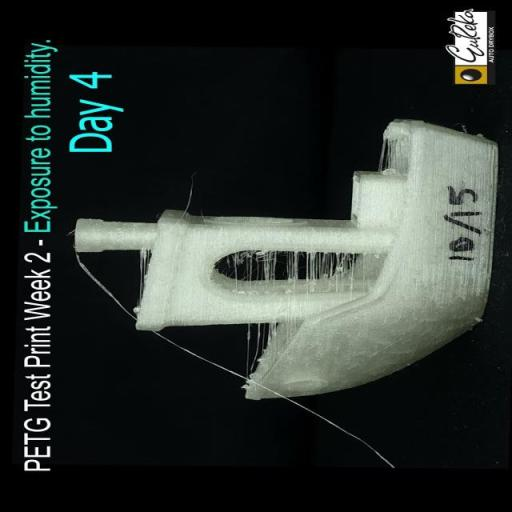stringing: (240, 248, 368, 297), (243, 323, 276, 340), (138, 250, 148, 290)
